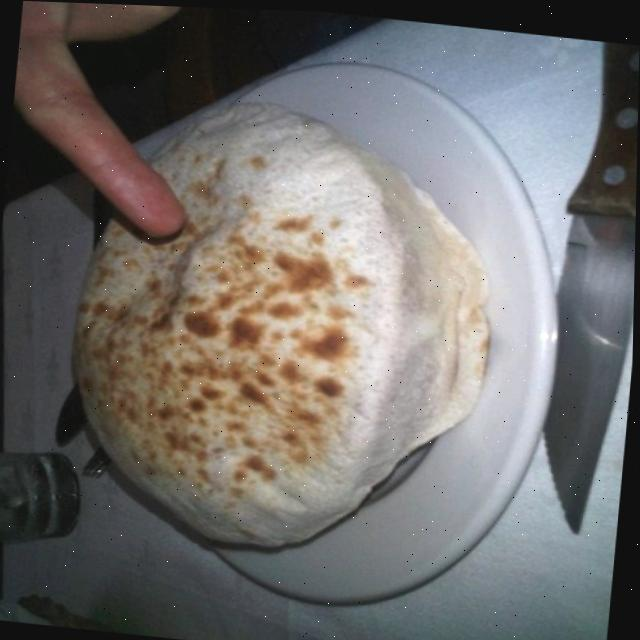面包点心: (23, 55, 532, 593)
